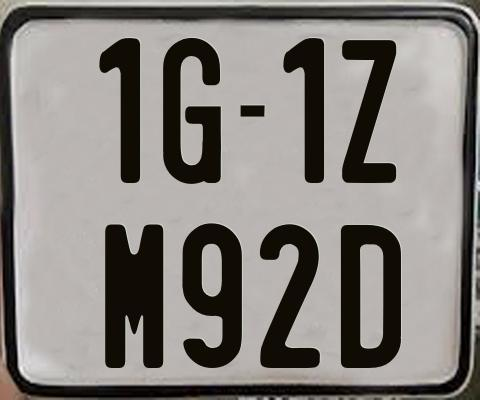1: (283, 35, 327, 182), (96, 35, 140, 180)
2: (258, 222, 322, 369)
9: (179, 221, 244, 370)
D: (341, 222, 403, 368)
G: (162, 35, 223, 184)
M: (103, 221, 165, 369)
Z: (342, 37, 400, 184)
